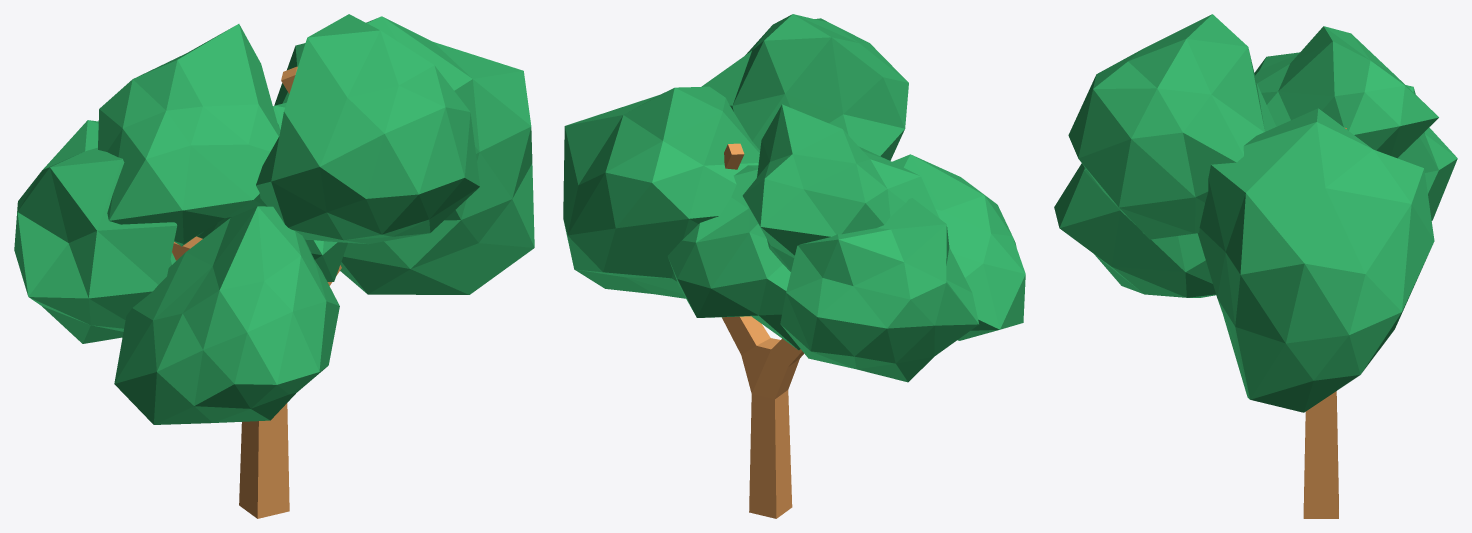
Rendered from Tree2.glb.
The picture shows the model from 3 angles, left to right: view 1: azimuth 30°, elevation 25°; view 2: azimuth 150°, elevation 25°; view 3: azimuth 270°, elevation 25°; orthographic projection. The views are drawn at different scales.
Parts seen in each view (by area): view 1: Tree2; view 2: Tree2; view 3: Tree2.
Boxes of the visible parts, x1,y1,x2,y2 form: Tree2: [14, 14, 534, 518]; Tree2: [563, 14, 1025, 518]; Tree2: [1054, 14, 1457, 518].
Size of the model in its own units: 1.62 by 1.64 by 1.21.
